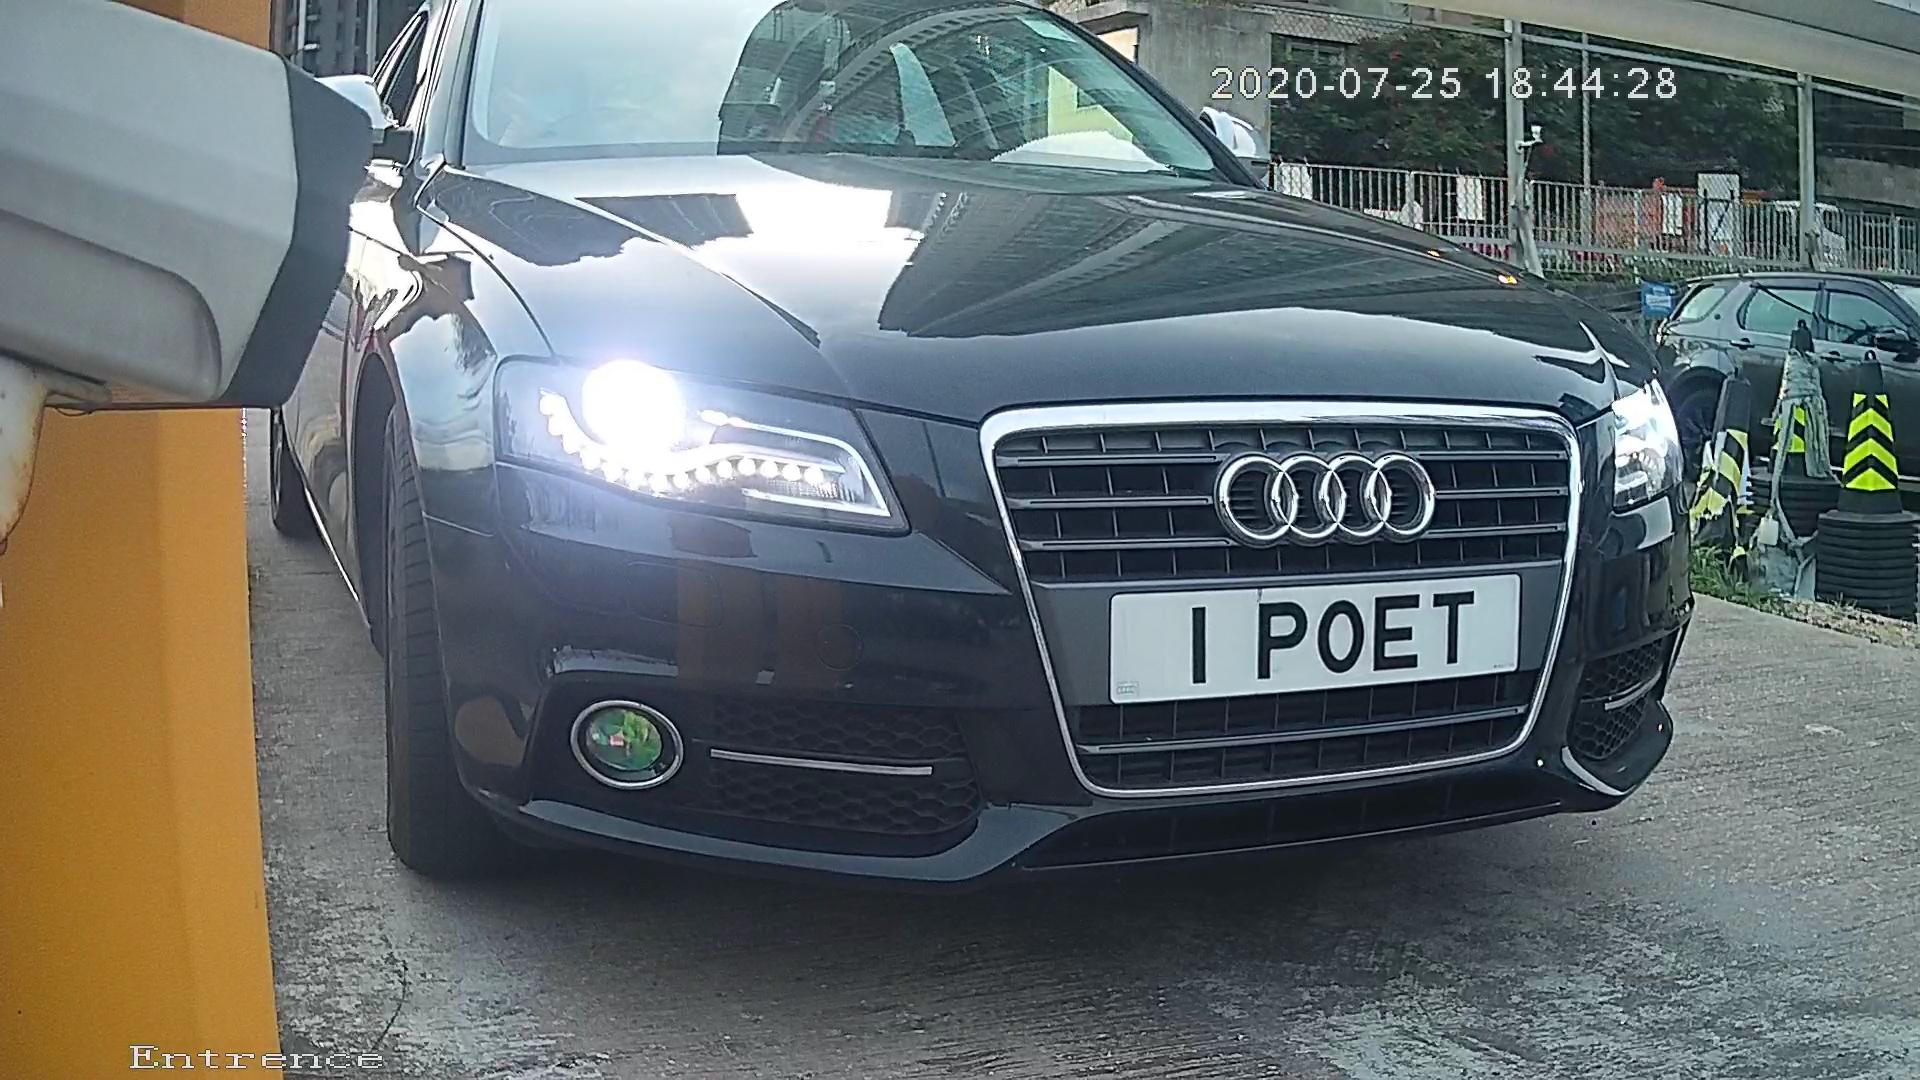Car: (181, 5, 1809, 945)
License Plate: (1089, 555, 1552, 719)
